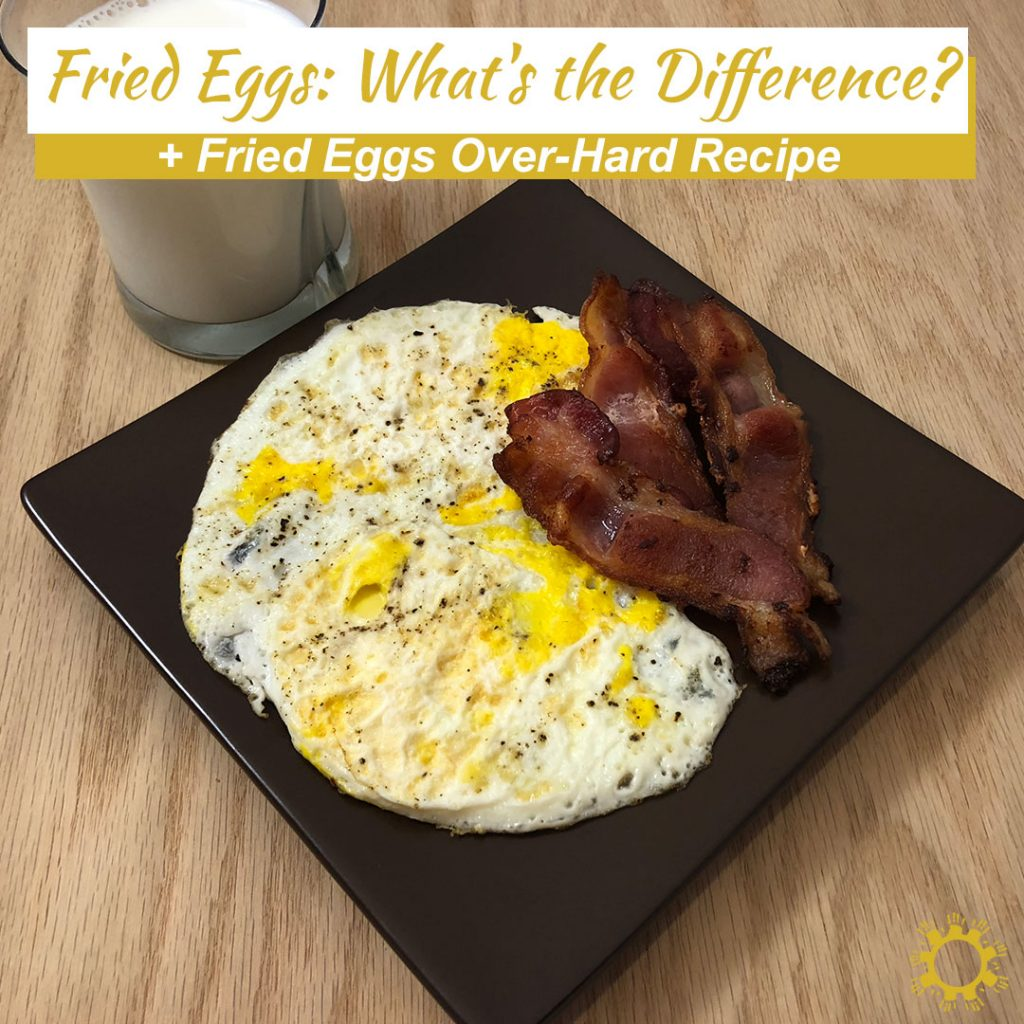fried egg: (281, 366, 524, 701)
